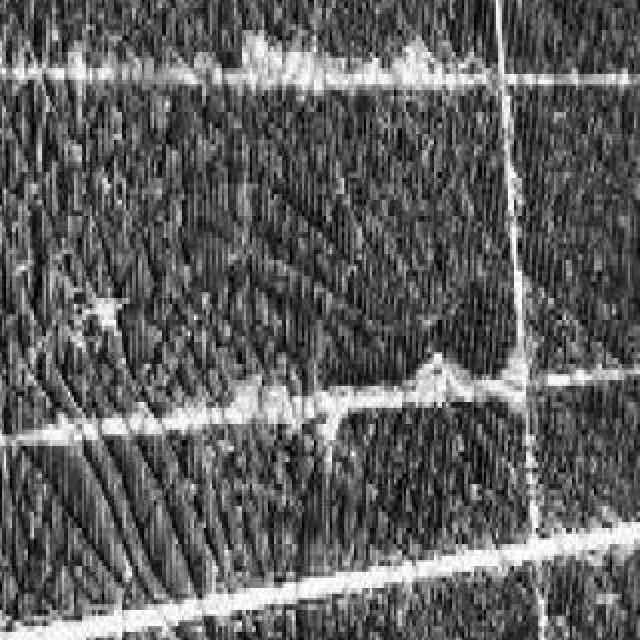Physical-damage: (8, 10, 612, 636)
